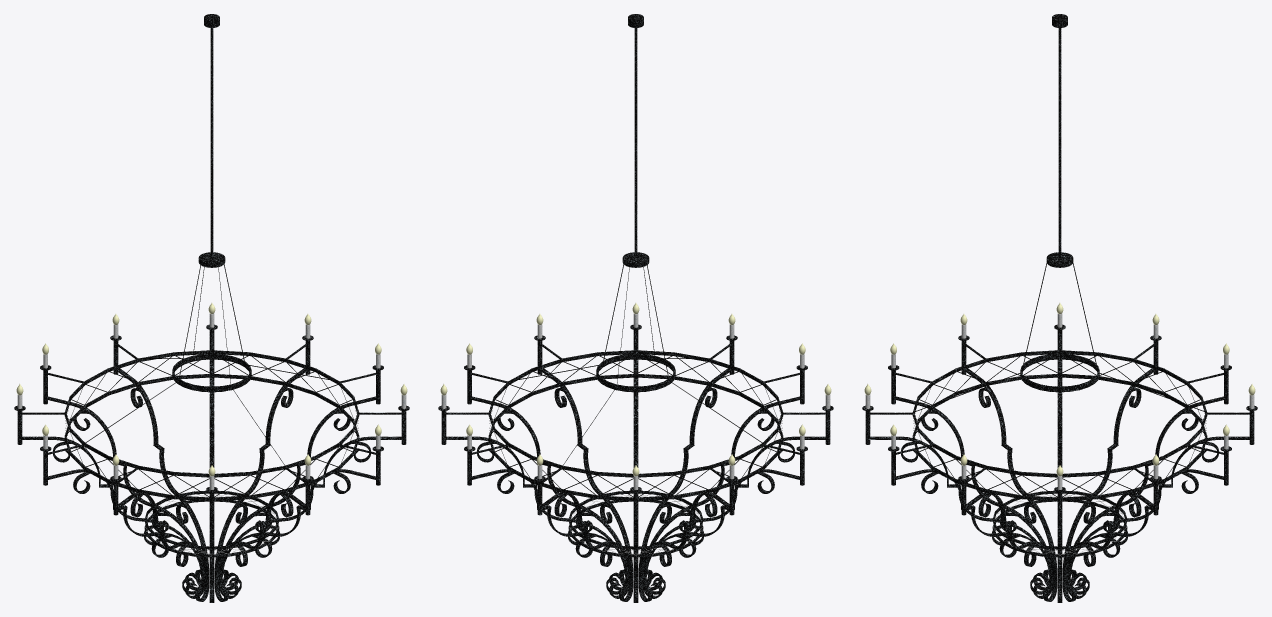
The model's file is chandelier.dae.
The picture shows the model from 3 angles, left to right: view 1: azimuth 30°, elevation 25°; view 2: azimuth 150°, elevation 25°; view 3: azimuth 270°, elevation 25°; orthographic projection.
Parts seen in each view (by area): view 1: Component_1 (×11), Component_3 (×4), group_1, group_0, group_4, group_3; view 2: Component_1 (×11), Component_3 (×4), group_1, group_0, group_4, group_3; view 3: Component_1 (×11), Component_3 (×4), group_1, group_0, group_4, group_3.
Boxes of the visible parts, box(x1,y1,x2,y2) form: Component_1 (×11): box(20, 359, 403, 601); Component_3 (×4): box(64, 350, 359, 500); group_1: box(210, 17, 213, 258); group_0: box(172, 353, 251, 392); group_4: box(144, 490, 279, 549); group_3: box(144, 500, 279, 557); Component_1 (×11): box(444, 359, 827, 601); Component_3 (×4): box(488, 350, 783, 500); group_1: box(634, 17, 637, 258); group_0: box(596, 353, 675, 392); group_4: box(568, 490, 703, 549); group_3: box(568, 500, 703, 557); Component_1 (×11): box(868, 359, 1251, 601); Component_3 (×4): box(912, 350, 1207, 500); group_1: box(1058, 17, 1061, 258); group_0: box(1020, 353, 1099, 392); group_4: box(992, 490, 1127, 549); group_3: box(992, 500, 1127, 557).
Bounding box in the file's own units: 65.17 × 65.17 × 105.
